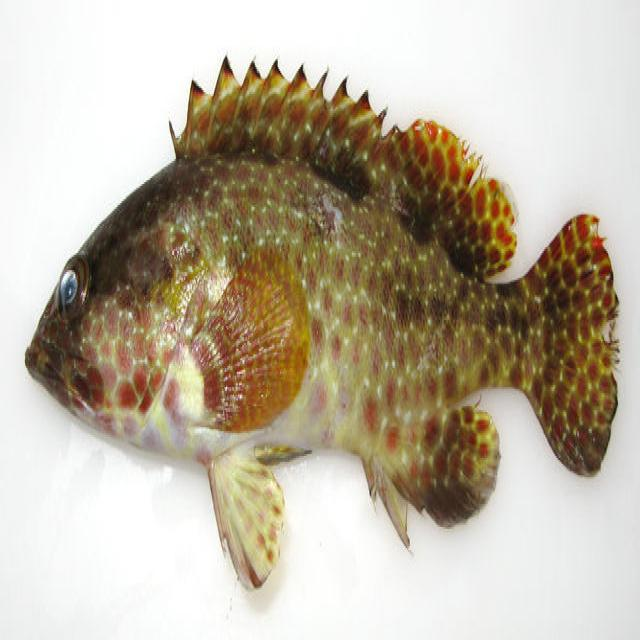ikan: (24, 52, 620, 592)
